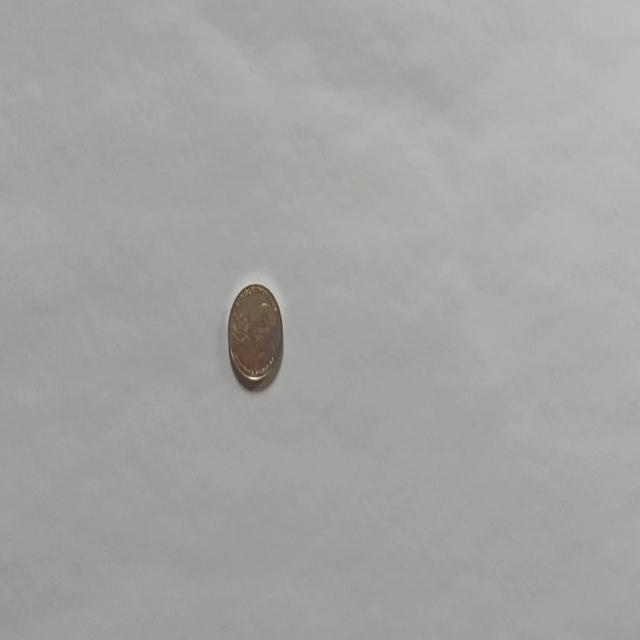lima ratus rupiah: (226, 281, 284, 387)
